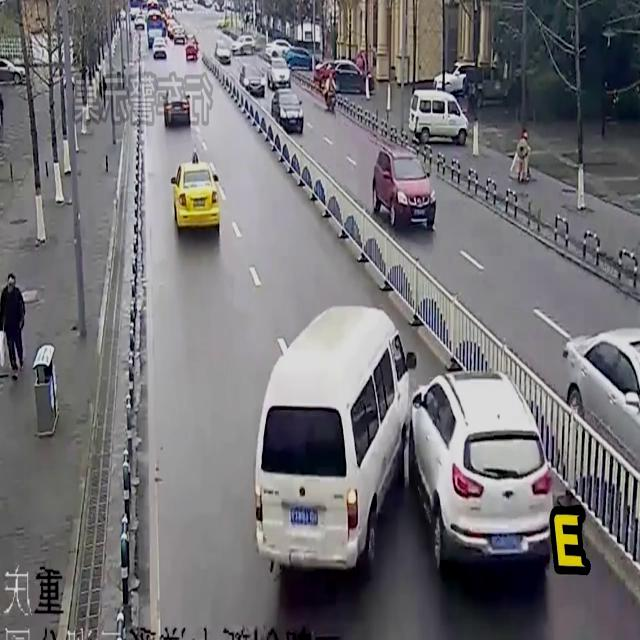accident: (255, 303, 560, 571)
non-accident: (262, 34, 312, 90), (267, 57, 303, 133), (144, 11, 170, 61), (172, 23, 196, 66)
